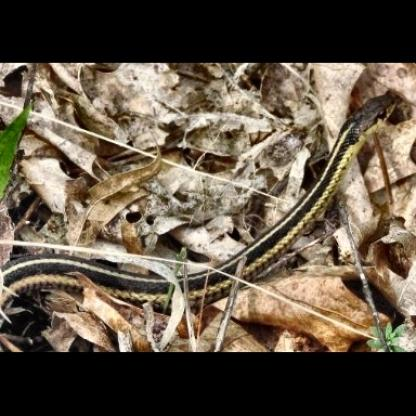Snake: (0, 228, 291, 324), (271, 92, 396, 254)
